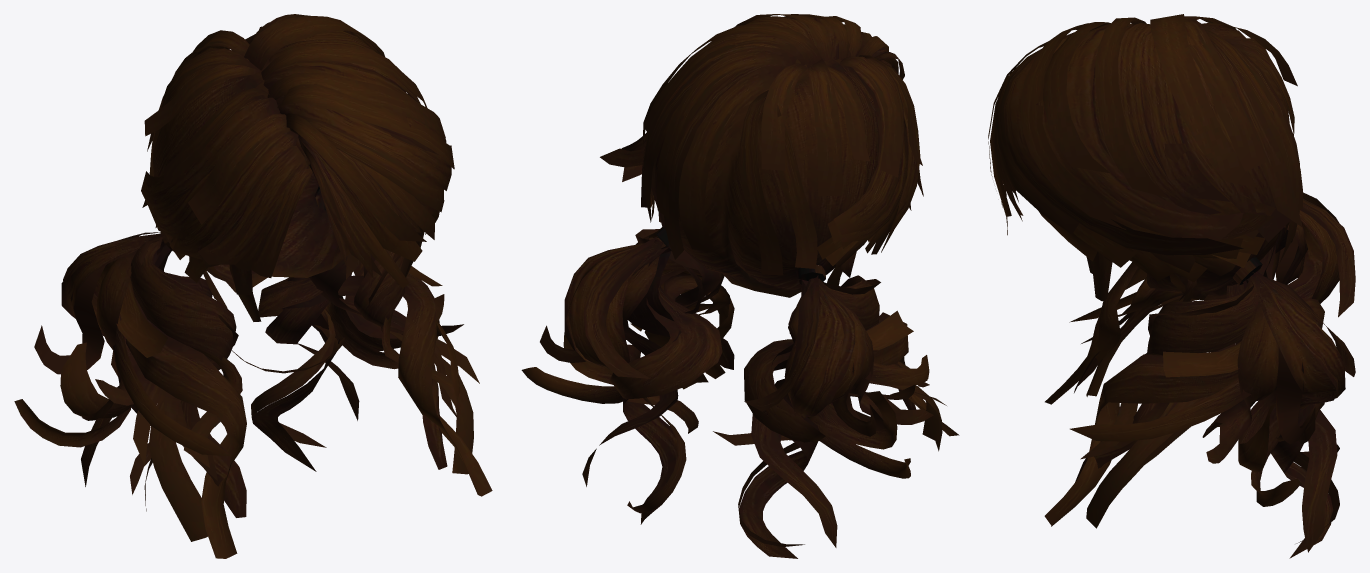
The model's file is ponytails-transformed.glb.
3 views of the same model, side by side, from view 1: azimuth 30°, elevation 25°; view 2: azimuth 150°, elevation 25°; view 3: azimuth 270°, elevation 25° (orthographic). The views are drawn at different scales.
Parts seen in each view (by area): view 1: Object_2; view 2: Object_2; view 3: Object_2.
Boxes of the visible parts, x1=… form: Object_2: x1=14, y1=14, x2=492, y2=558; Object_2: x1=521, y1=14, x2=959, y2=558; Object_2: x1=988, y1=14, x2=1355, y2=558.
Bounding box in the file's own units: 25.47 × 29.54 × 19.76.
1 material, 1 textured.
